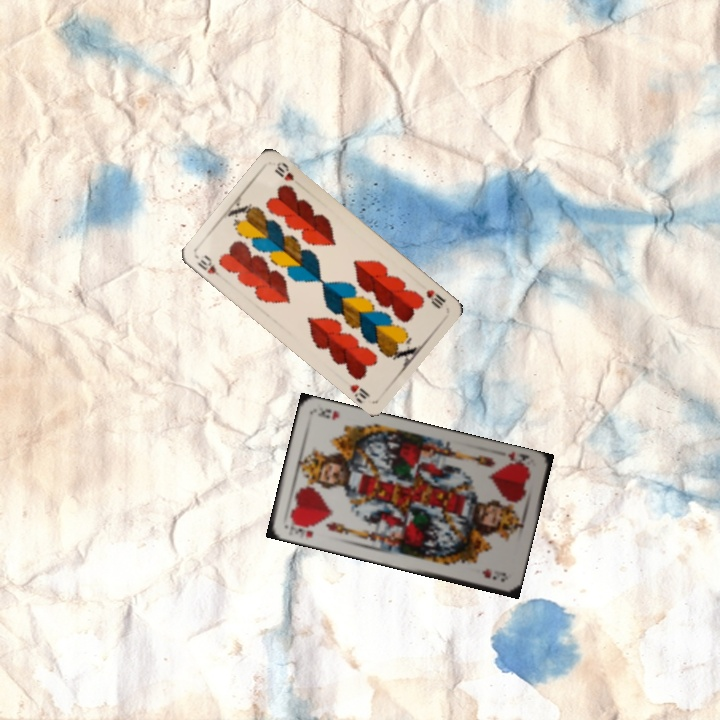H10: (193, 251, 228, 283), (422, 285, 448, 311)
HK: (501, 448, 533, 472), (287, 519, 316, 541)
